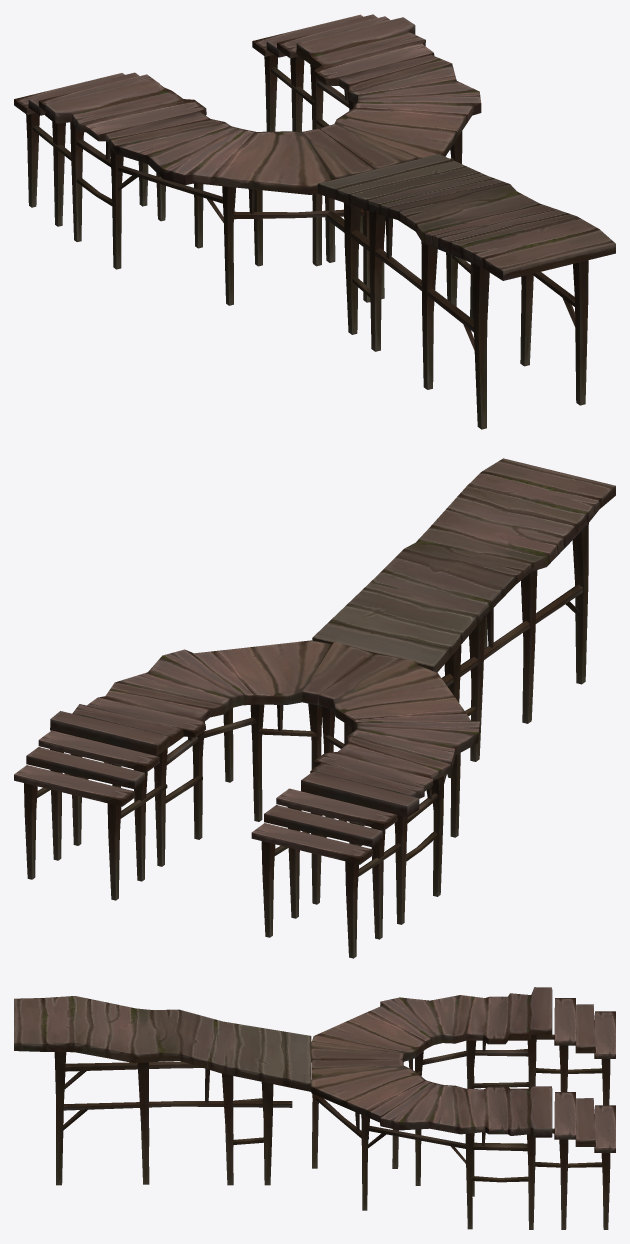
3 views of the same model, one above another, from view 1: azimuth 30°, elevation 25°; view 2: azimuth 150°, elevation 25°; view 3: azimuth 270°, elevation 25° (orthographic). The views are drawn at different scales.
Parts seen in each view (by area): view 1: MB0002_23_02_01; view 2: MB0002_23_02_01; view 3: MB0002_23_02_01.
Boxes of the visible parts, <box> form: MB0002_23_02_01: <box>14,14,615,429</box>; MB0002_23_02_01: <box>14,458,615,958</box>; MB0002_23_02_01: <box>14,987,615,1229</box>.
Size of the model in its own units: 4.18 by 1.98 by 7.5.
